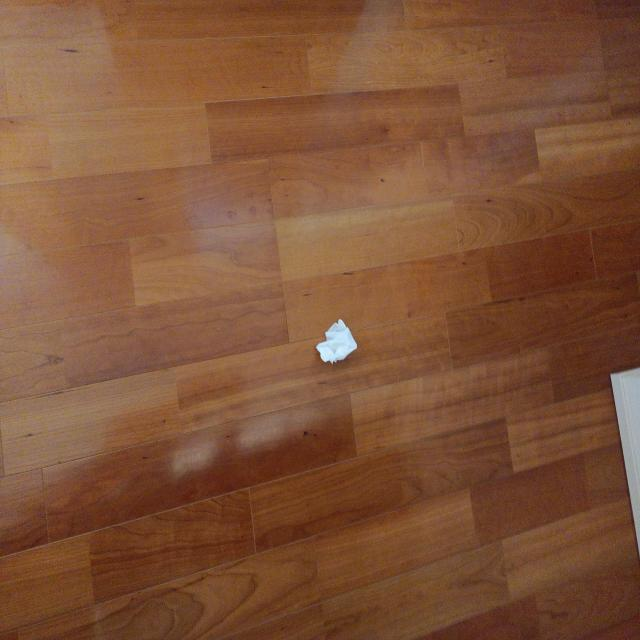Paper: (316, 320, 370, 369)
